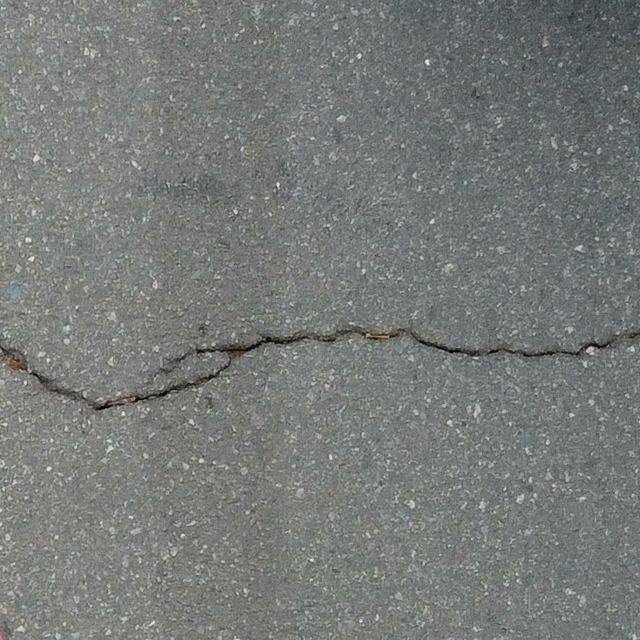TransverseCrack: (1, 324, 640, 412)
